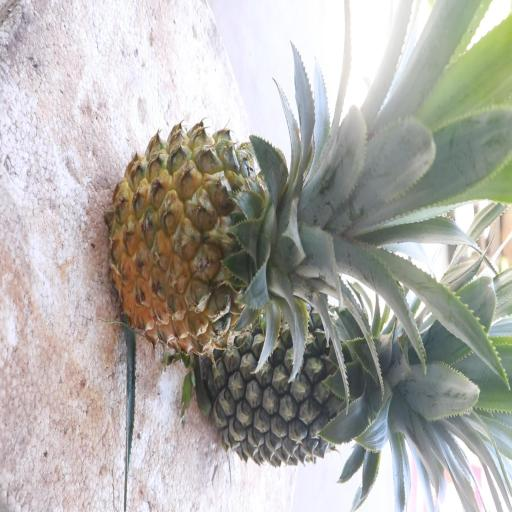Pineapple - v8 v1: (108, 114, 400, 358)
